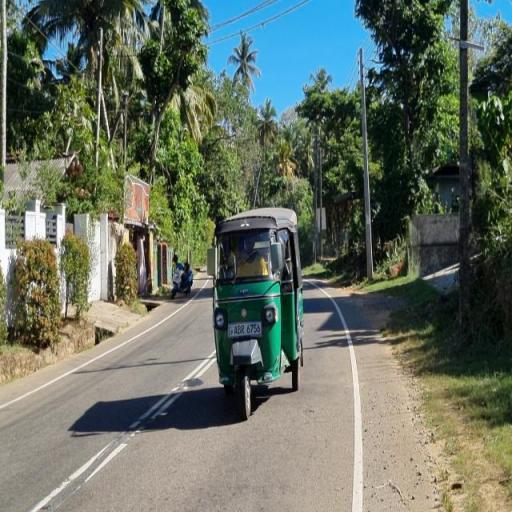double_white_line: (30, 350, 213, 512)
